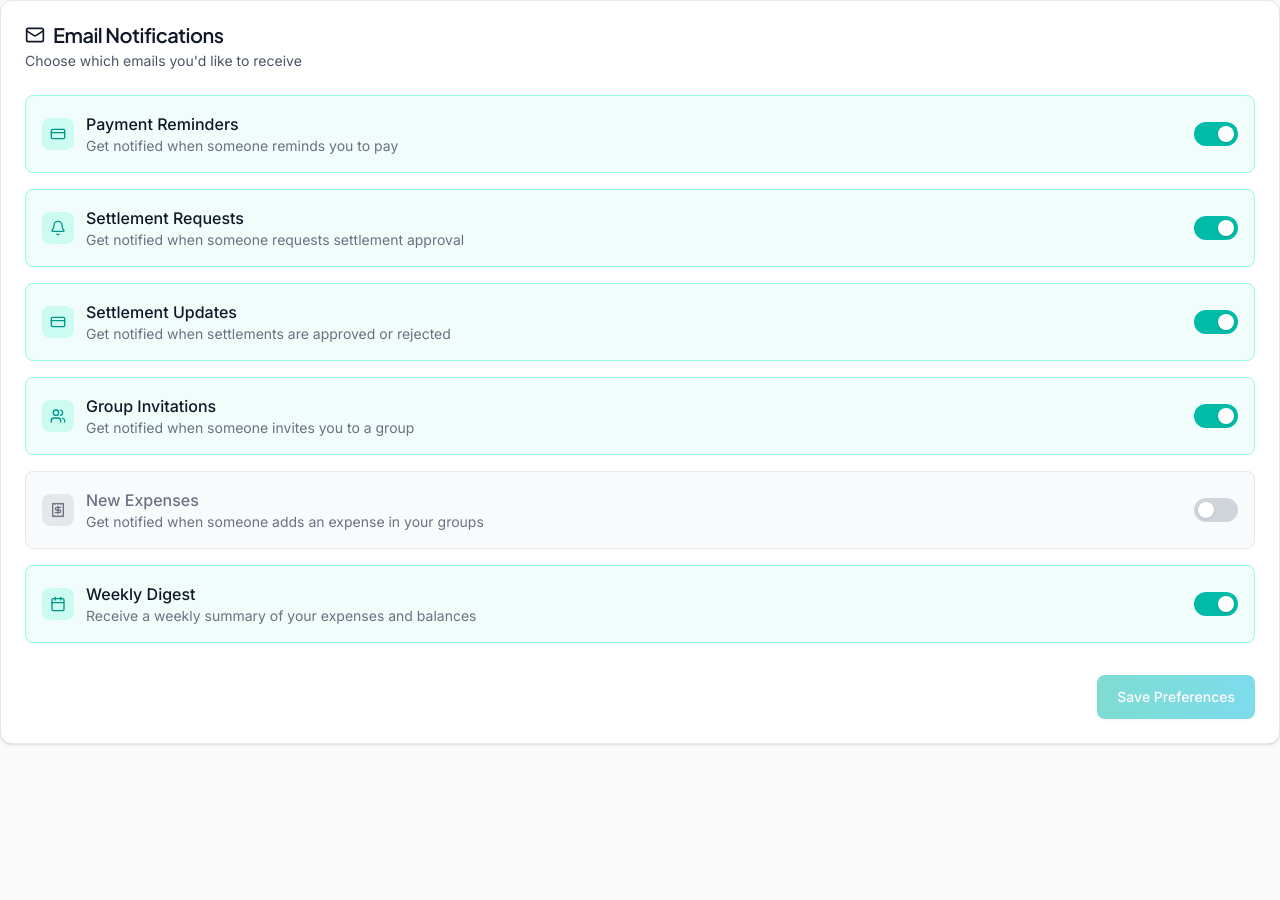
EmailPreferencesForm › enables save button after making changes
Check: the button "Save Preferences" is disabled, box [1097, 675, 1255, 719]
Note: Make a change
Click the button "Payment Reminders": (58, 134) [25, 95, 1255, 173]
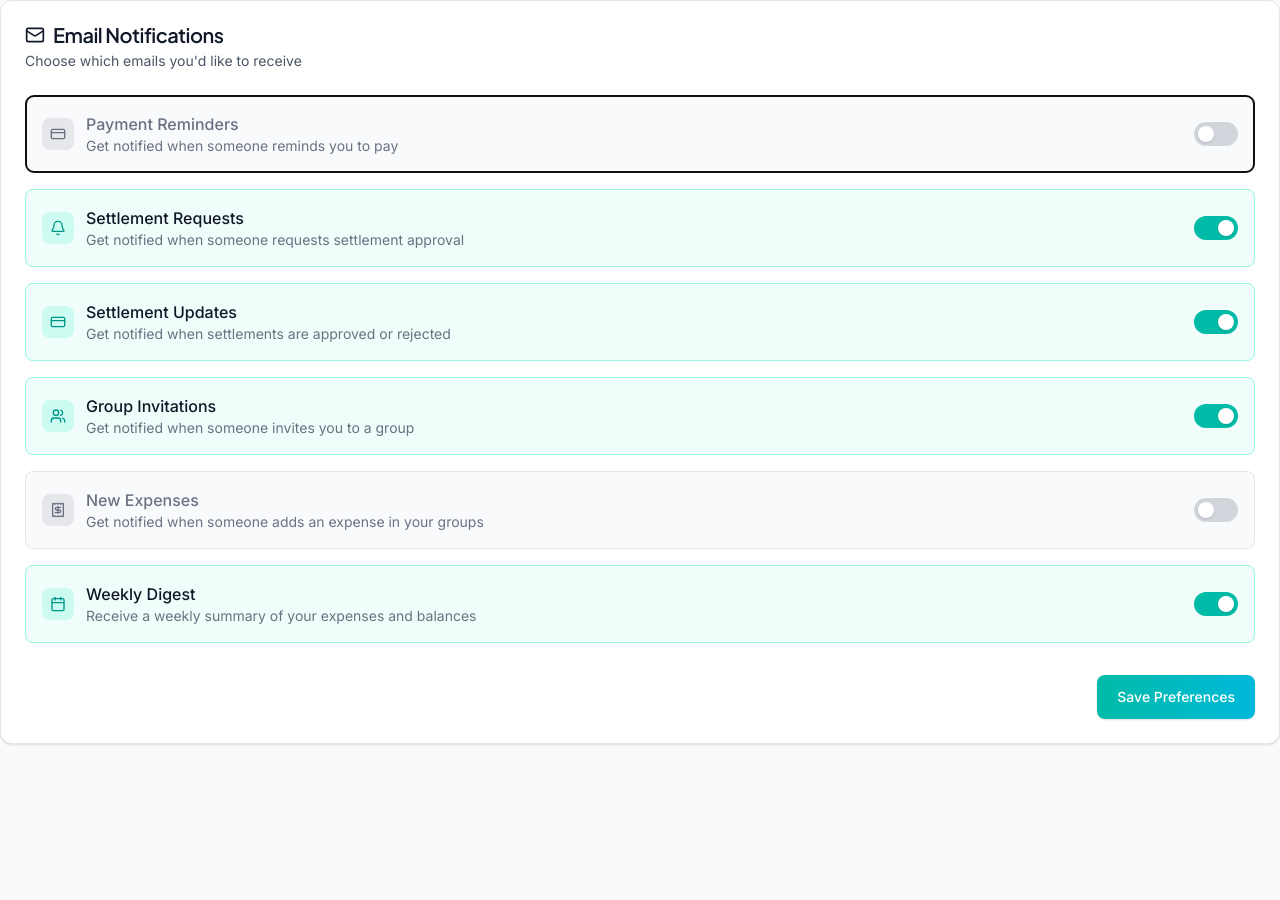
Check: the button "Save Preferences" is enabled, box [1097, 675, 1255, 719]
